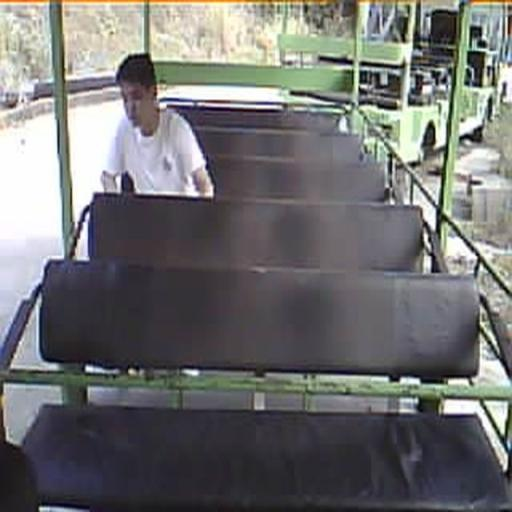persona: (100, 51, 216, 200)
